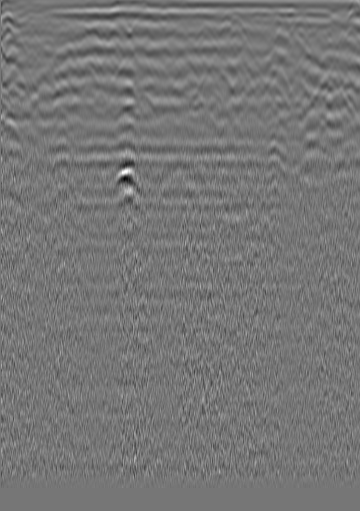가스: (109, 158, 147, 197)
상수: (16, 24, 36, 44)
오수: (312, 21, 332, 41)
우수: (164, 19, 184, 39)
